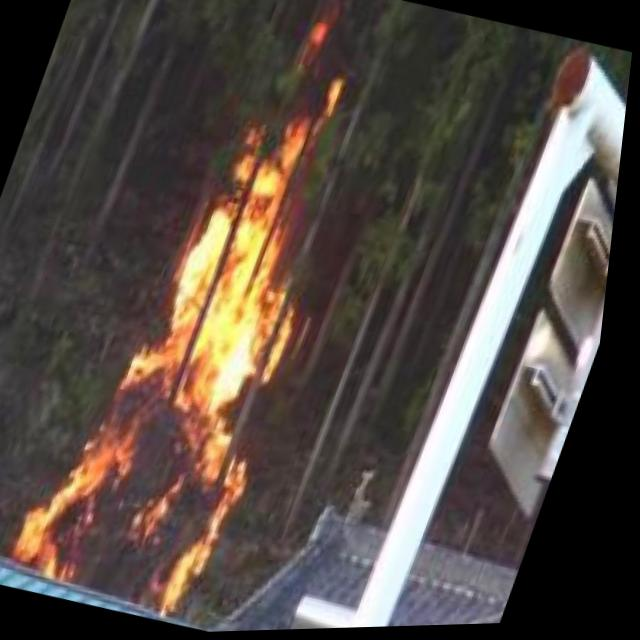Fire: (12, 85, 374, 626)
